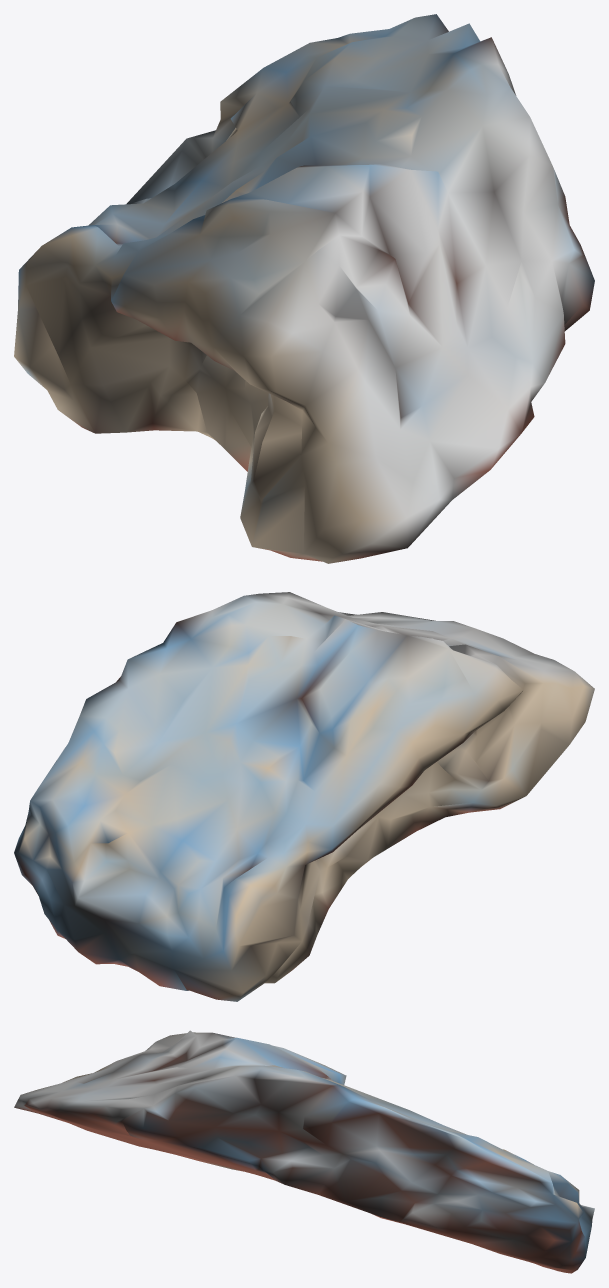
File: rock_08.001.glb
3 renders of one model, top to bottom at view 1: azimuth 30°, elevation 25°; view 2: azimuth 150°, elevation 25°; view 3: azimuth 270°, elevation 25°, orthographic. The views are drawn at different scales.
Parts seen in each view (by area): view 1: rock_08.001; view 2: rock_08.001; view 3: rock_08.001.
Boxes of the visible parts, x1,y1,x2,y2 form: rock_08.001: (14, 14, 594, 563); rock_08.001: (14, 592, 594, 1001); rock_08.001: (14, 1030, 594, 1273).
Size of the model in its own units: 0.7404 by 0.5989 by 1.35.
